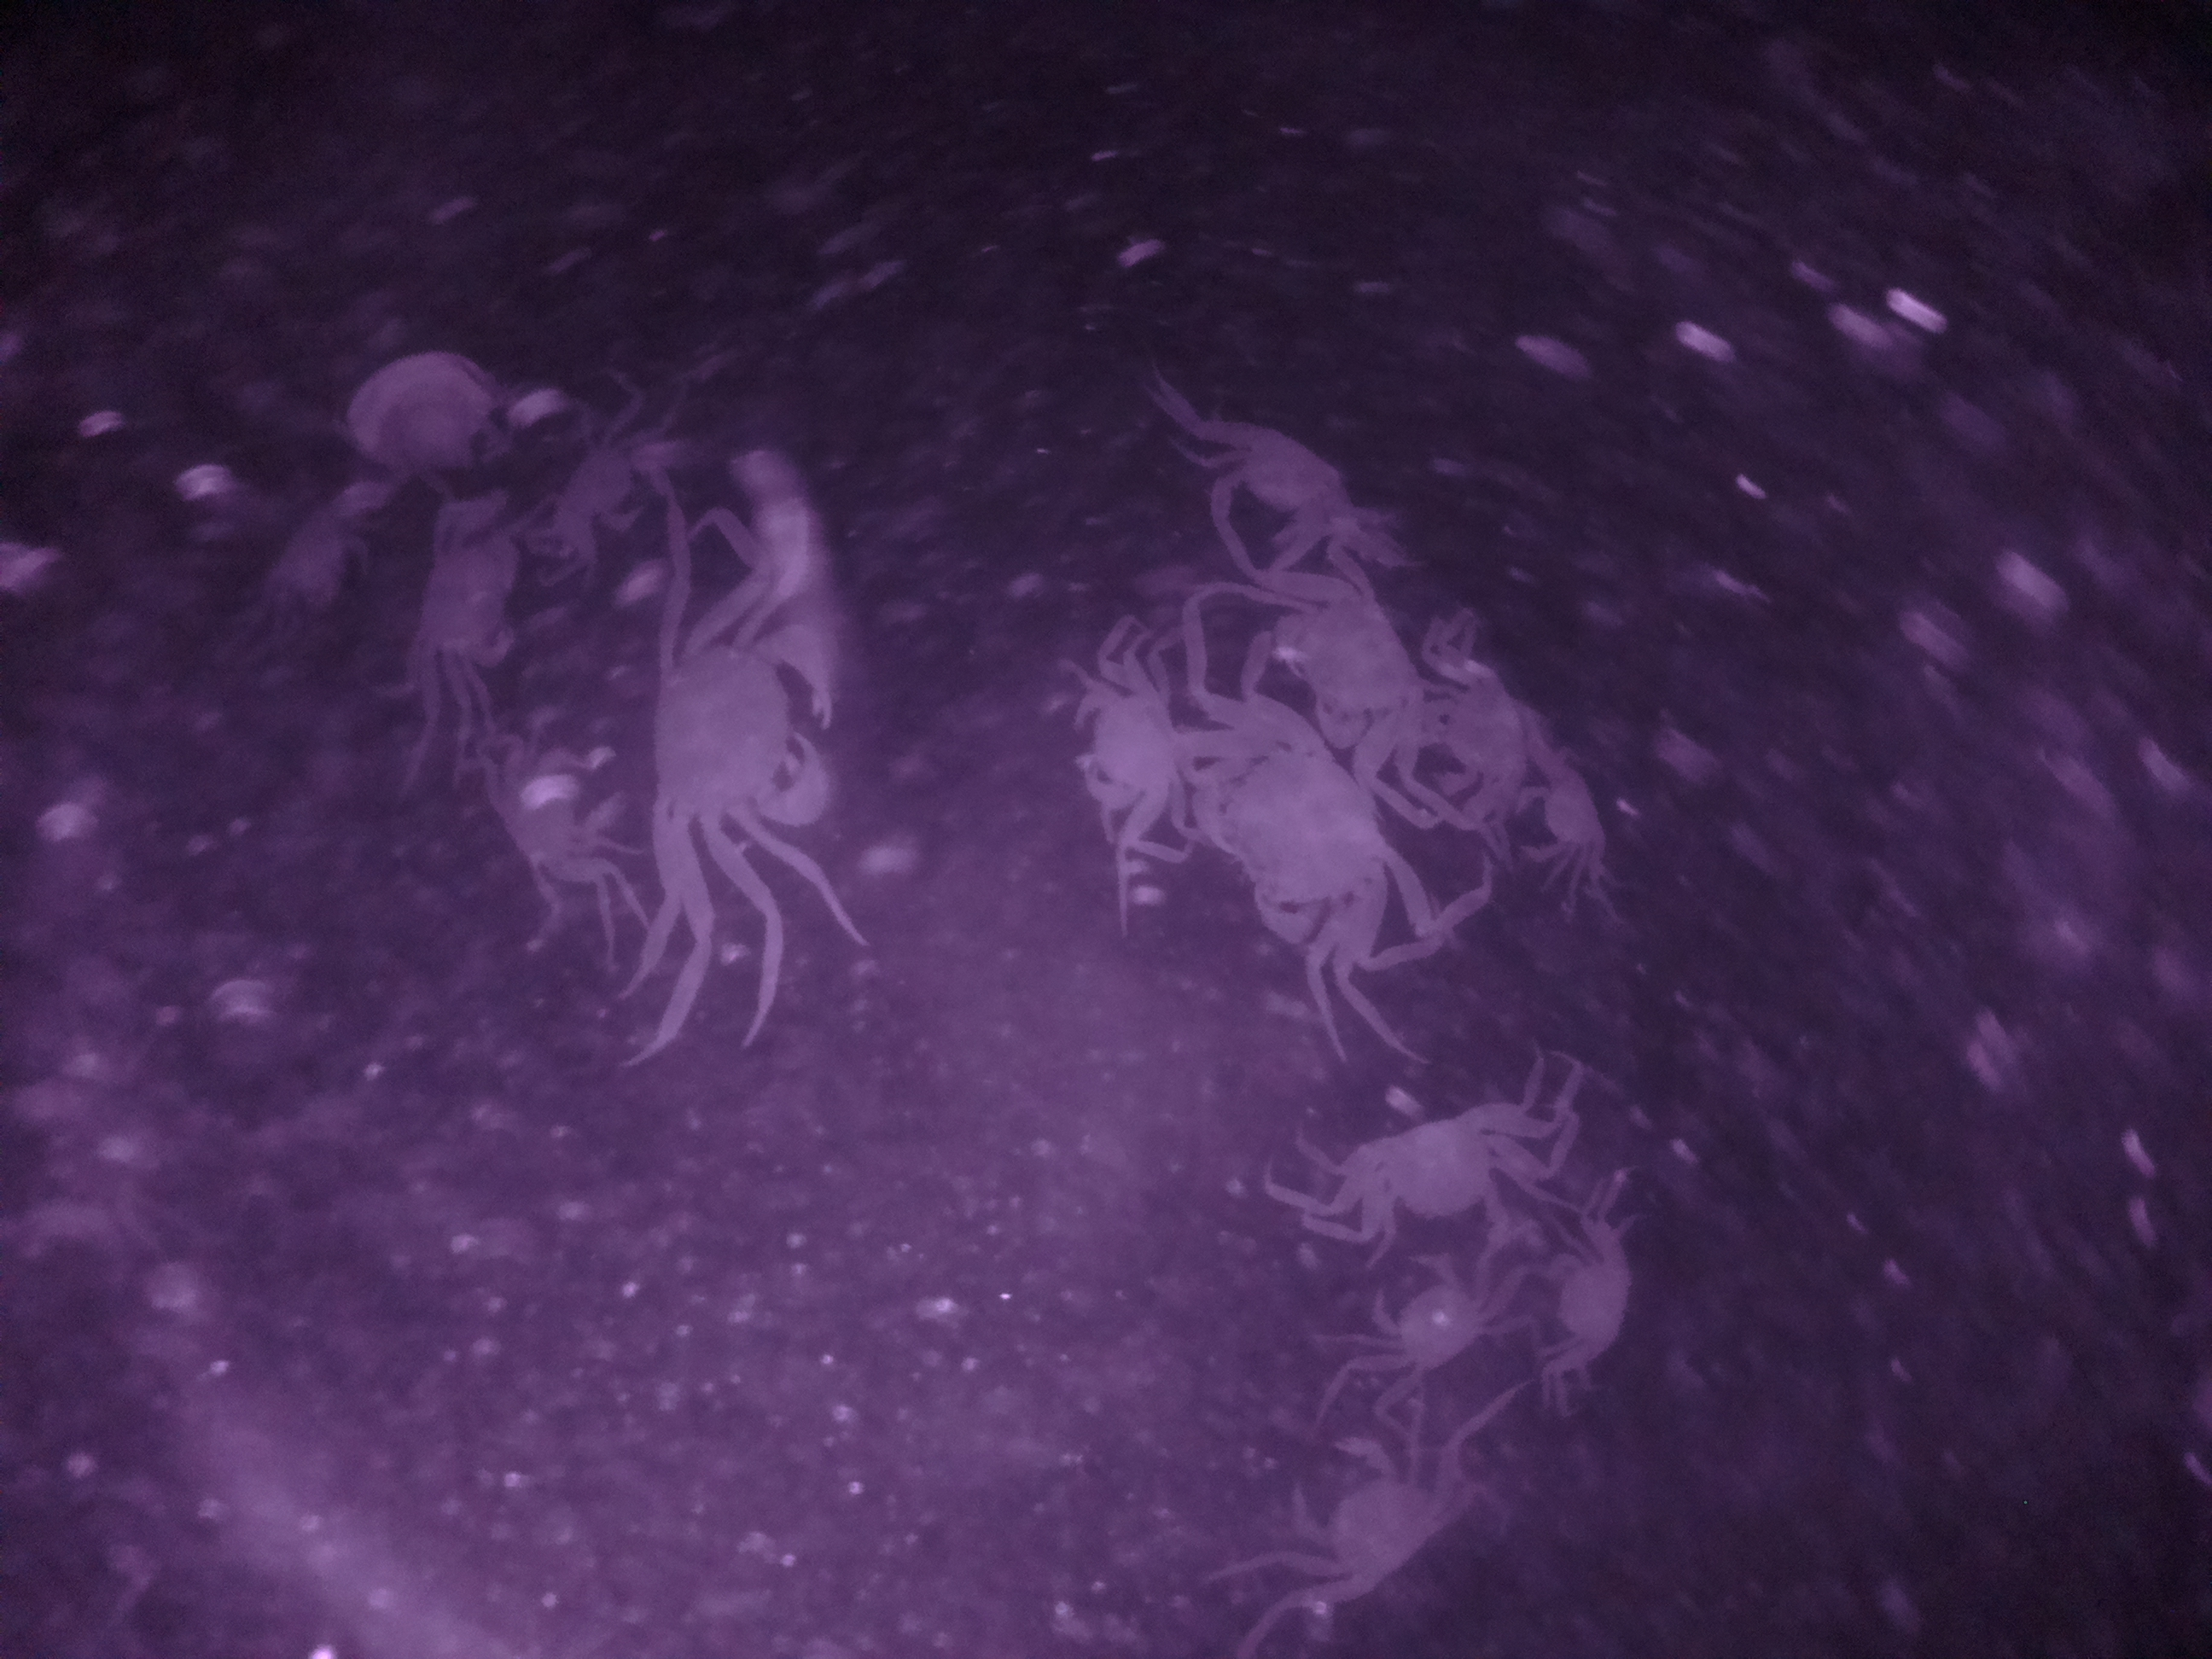Crab: (636, 558, 853, 870), (1202, 702, 1392, 986), (1273, 1406, 1470, 1615), (1301, 1098, 1552, 1241), (1355, 1234, 1514, 1431), (392, 502, 529, 699), (1075, 647, 1191, 857), (1534, 1197, 1648, 1399), (1515, 751, 1608, 896)
